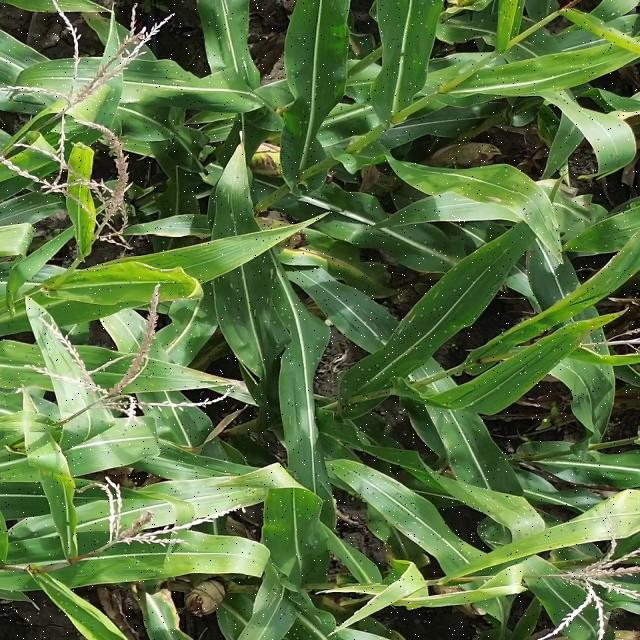gray-leaf-spot: (201, 185, 313, 345), (385, 248, 498, 351), (263, 388, 326, 454)
northern-leaf-blight: (478, 180, 606, 311)
southern-leaf-blight: (217, 491, 331, 559)
